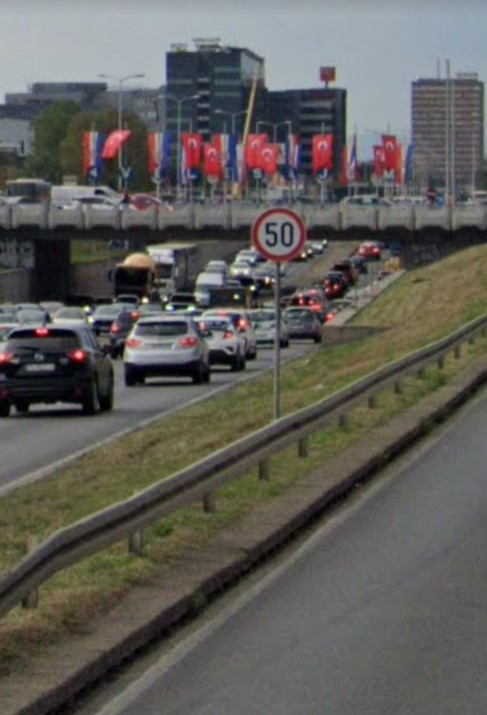Ograničenje brzine 50: (252, 207, 306, 260)
